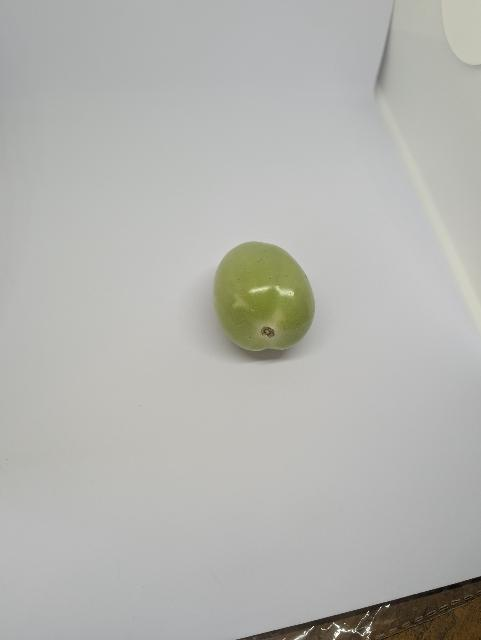green: (207, 231, 326, 362)
